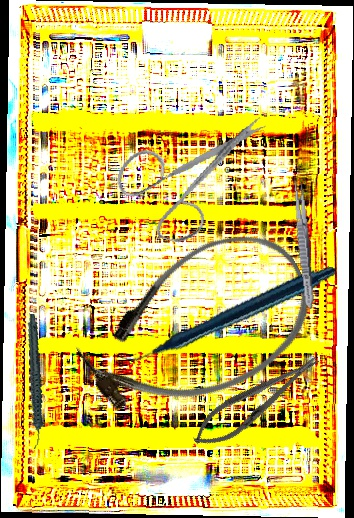Cannula: (60, 208, 334, 445)
Dressing Forceps: (290, 175, 317, 311)
Handpiece: (118, 227, 337, 399), (4, 313, 64, 450)
Iris Scissors: (105, 85, 269, 258)
Needle Holder: (185, 344, 328, 458)
